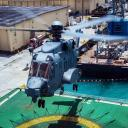helicopter: (5, 6, 108, 111)
